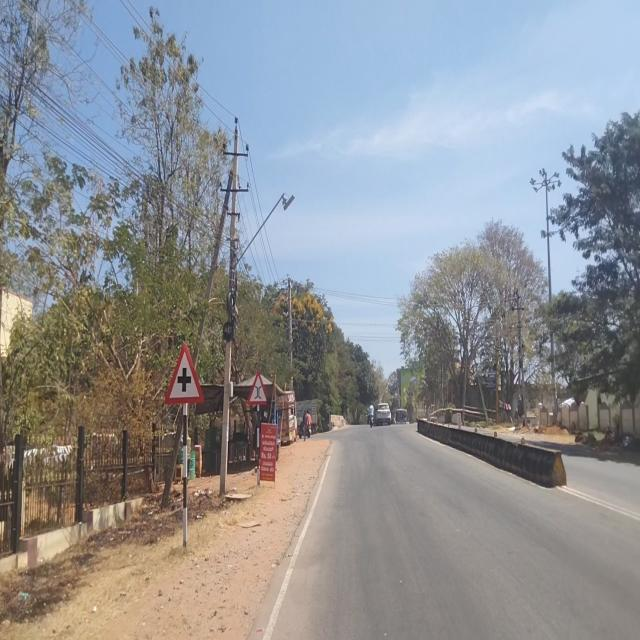bien_cam: (165, 343, 202, 405), (247, 370, 267, 406)
